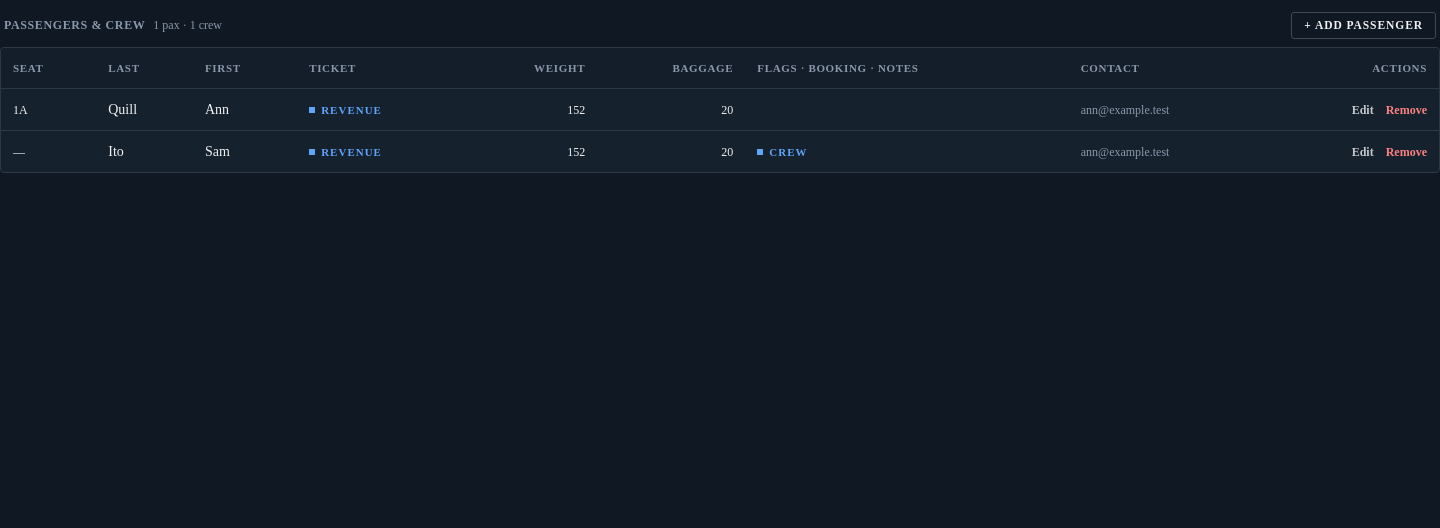
Passengers & Crew (#62) › has no stop pickers on a flight of one leg
What coordinates should you click on to do the following:
click the button "+ Add Passenger"
I would click on:
 (1364, 26)
Its box is top-left (1291, 12), bottom-right (1436, 39).
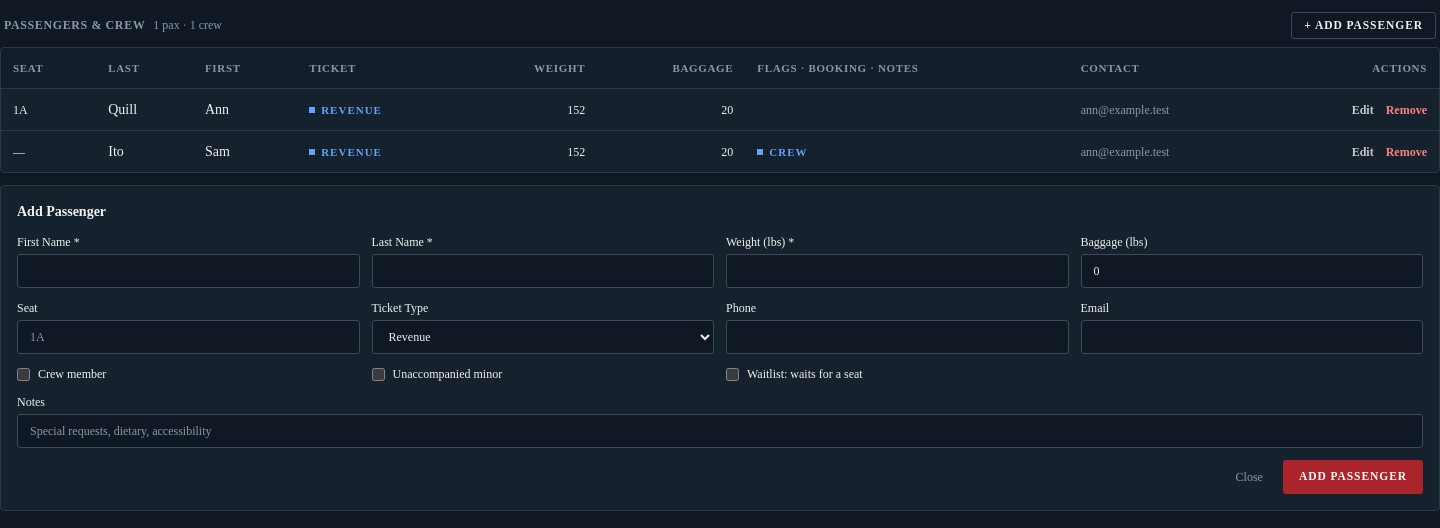
Result: the checkbox labelled "Waitlist: waits for a seat" is shown at top-left (726, 368), bottom-right (739, 381)
